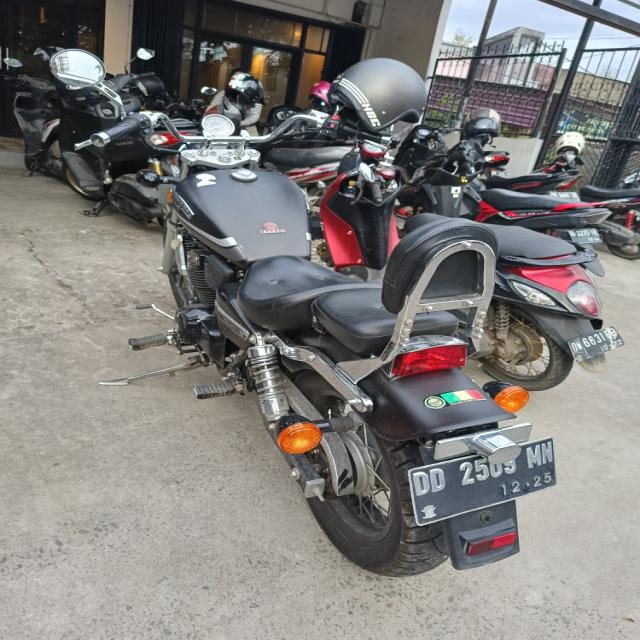plates: (403, 435, 555, 523)
